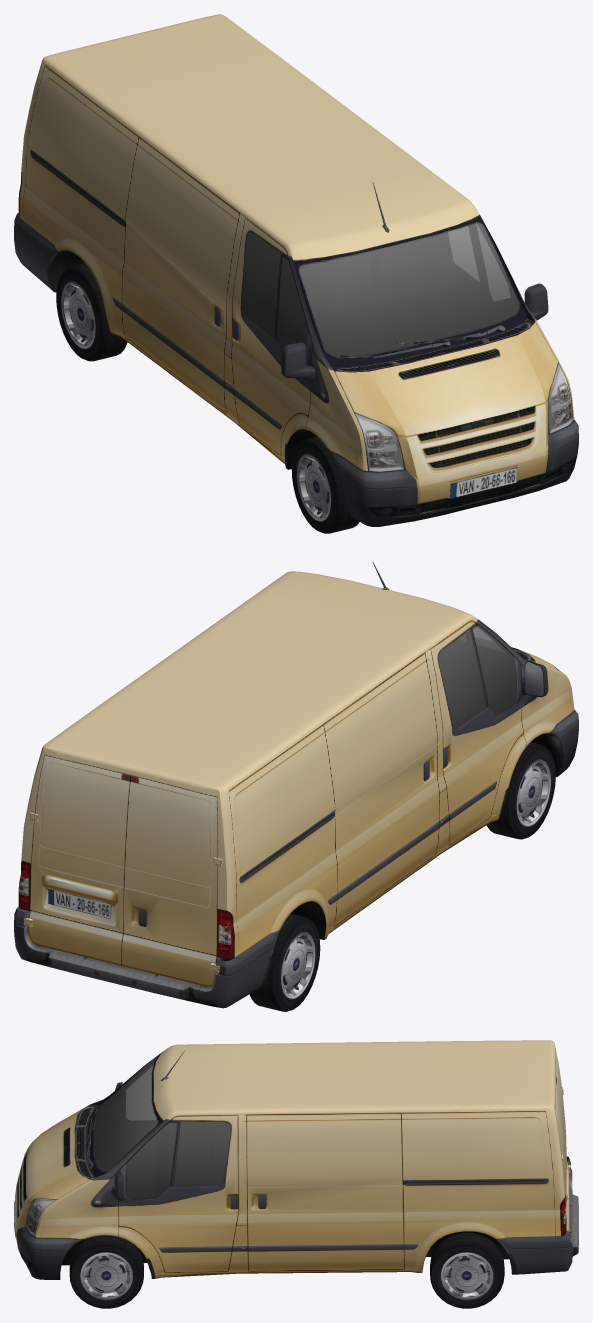
File: van_beige.glb
3 renders of one model, top to bottom at view 1: azimuth 30°, elevation 25°; view 2: azimuth 150°, elevation 25°; view 3: azimuth 270°, elevation 25°, orthographic. The views are drawn at different scales.
Visible parts, largest first — view 1: van03_, van03_gla_, van03_wheel04_, van03_wheel02_; view 2: van03_, van03_gla_, van03_wheel04_, van03_wheel02_; view 3: van03_, van03_gla_, van03_wheel03_, van03_wheel01_.
Part boxes in pixels (<box>): van03_: <box>14,14,578,526</box>; van03_gla_: <box>241,223,519,357</box>; van03_wheel04_: <box>56,263,127,361</box>; van03_wheel02_: <box>291,436,359,533</box>; van03_: <box>14,562,578,1008</box>; van03_gla_: <box>438,625,517,729</box>; van03_wheel04_: <box>249,913,320,1011</box>; van03_wheel02_: <box>486,742,555,839</box>; van03_: <box>14,1040,578,1279</box>; van03_gla_: <box>93,1056,230,1199</box>; van03_wheel03_: <box>430,1233,504,1308</box>; van03_wheel01_: <box>69,1235,143,1308</box>.
Bounding box in the file's own units: 2.19 × 2.25 × 5.29.
3 materials, 3 textured.
